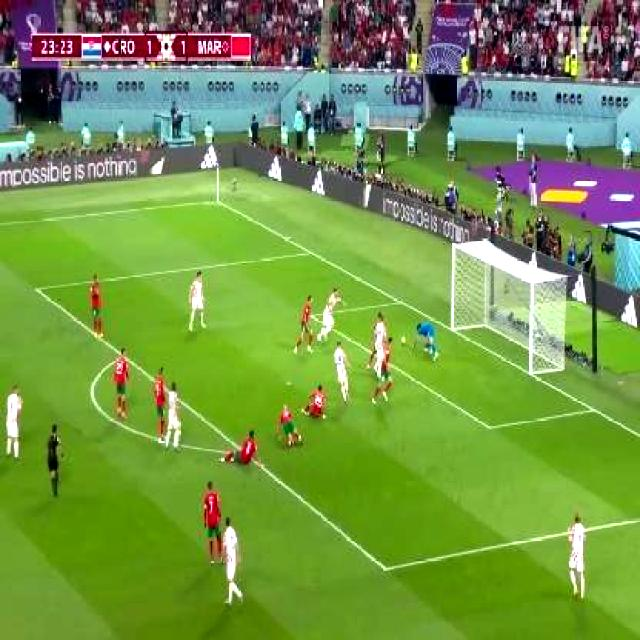bigarea_bottom_inner: (374, 554, 397, 583)
bigarea_top_inner: (30, 281, 42, 297)
bigarea_top_outter: (304, 246, 316, 259)
corner: (208, 197, 220, 206)
smallarea_bottom_inner: (482, 416, 498, 438)
smallarea_bottom_outter: (586, 400, 600, 418)
smallarea_top_outter: (394, 294, 404, 308)
top_arc_area_intersection: (117, 351, 125, 362)
